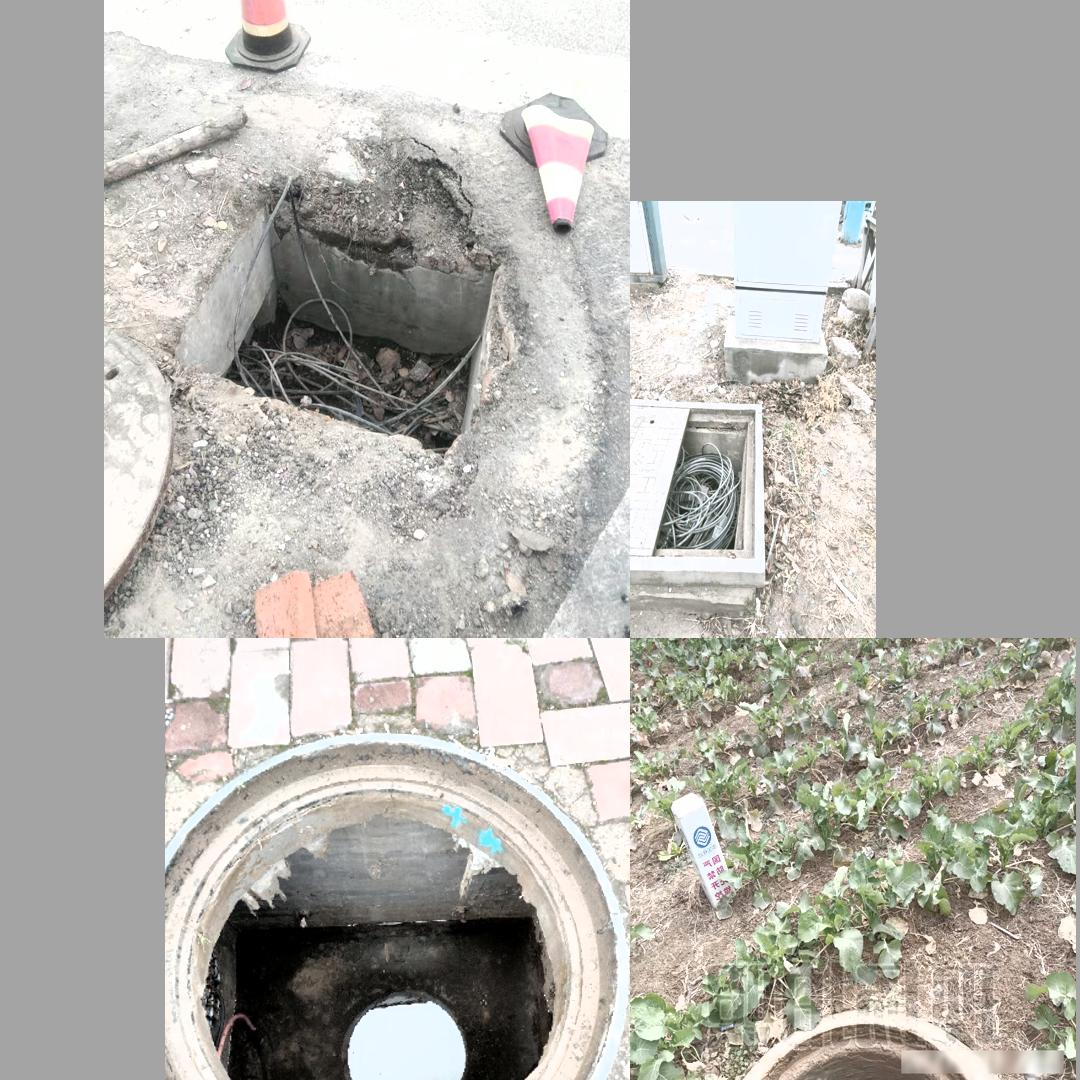lose: (168, 731, 627, 1080), (170, 186, 502, 457), (630, 398, 766, 587), (694, 1014, 1014, 1080)
